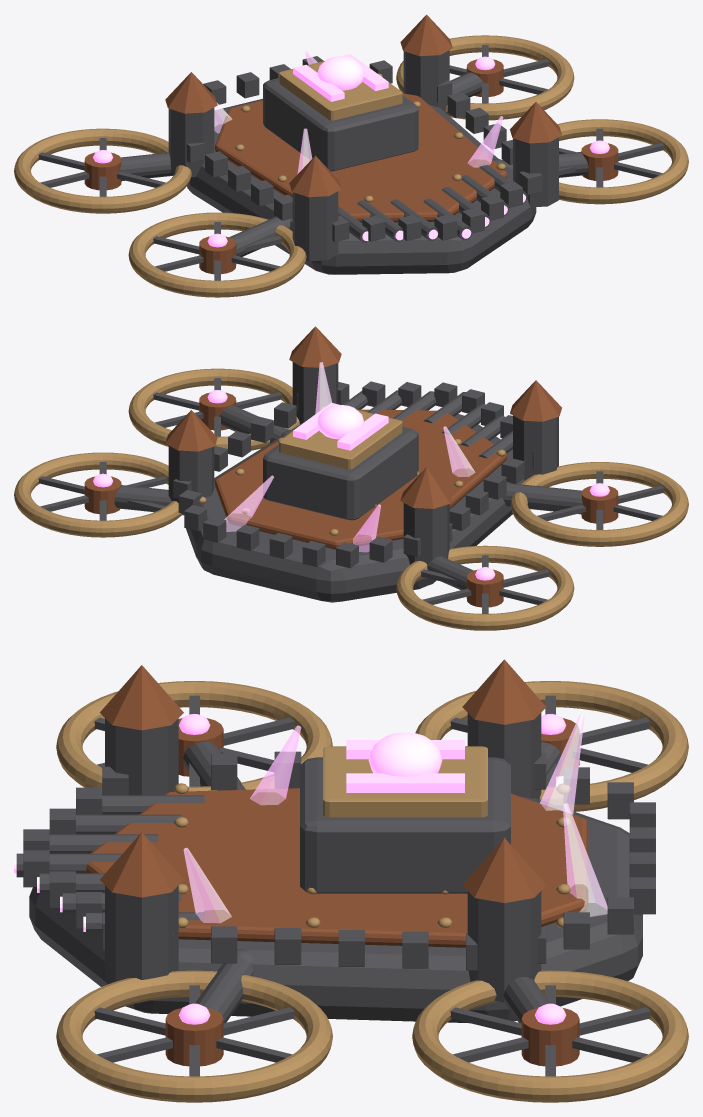
The model's file is keeper_hittite.glb.
The picture shows the model from 3 angles, top to bottom: view 1: azimuth 30°, elevation 25°; view 2: azimuth 150°, elevation 25°; view 3: azimuth 270°, elevation 25°; orthographic projection. The views are drawn at different scales.
Visible parts, largest first — view 1: deck; view 2: deck; view 3: deck.
Boxes of the visible parts, x1,y1,x2,y2 form: deck: [14, 14, 688, 297]; deck: [14, 326, 688, 630]; deck: [14, 659, 688, 1102].
Bounding box in the file's own units: 7.3 × 1.7 × 5.12.
